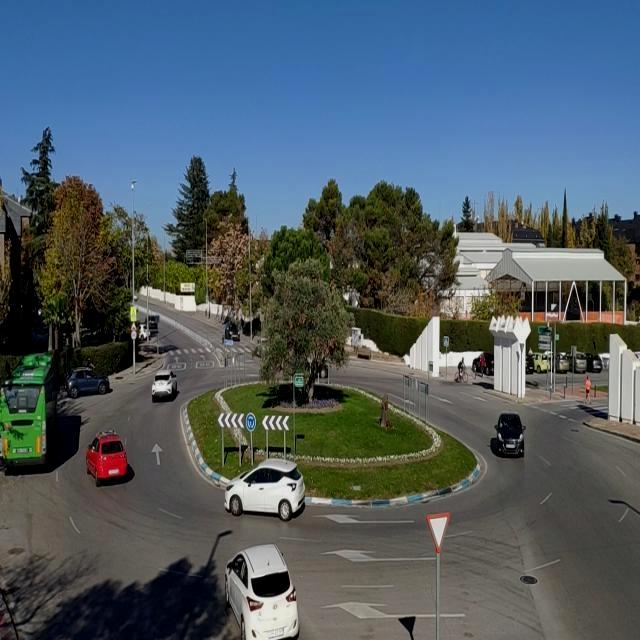Bus: (0, 348, 61, 474)
Car: (223, 543, 299, 638), (224, 458, 308, 521), (85, 431, 128, 485), (494, 413, 528, 457), (63, 368, 109, 398), (152, 368, 178, 401), (472, 352, 495, 376), (566, 351, 588, 373), (528, 352, 550, 373), (548, 352, 569, 373), (224, 322, 242, 342), (584, 353, 602, 373), (35, 324, 49, 344), (136, 324, 151, 342), (526, 352, 534, 374)
Cycle: (454, 367, 469, 384)
